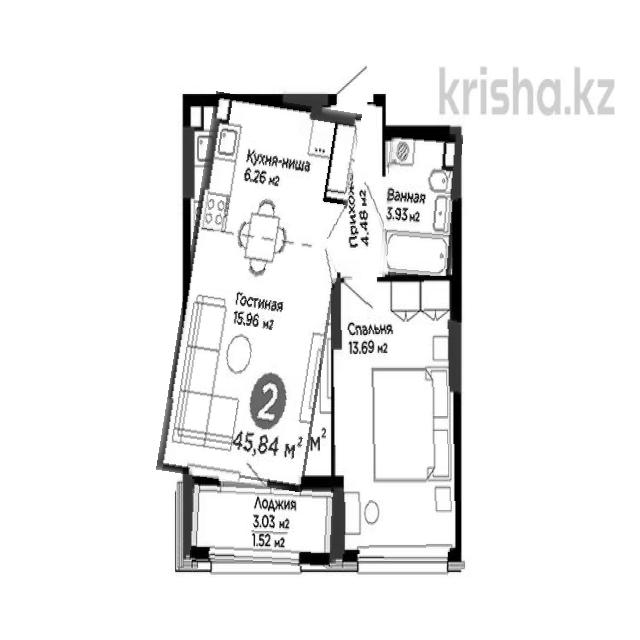balcony: (187, 481, 339, 566)
bathroom: (382, 130, 460, 279)
hallway: (307, 103, 385, 281)
living_room: (332, 277, 460, 554)
studio: (171, 95, 348, 488)
